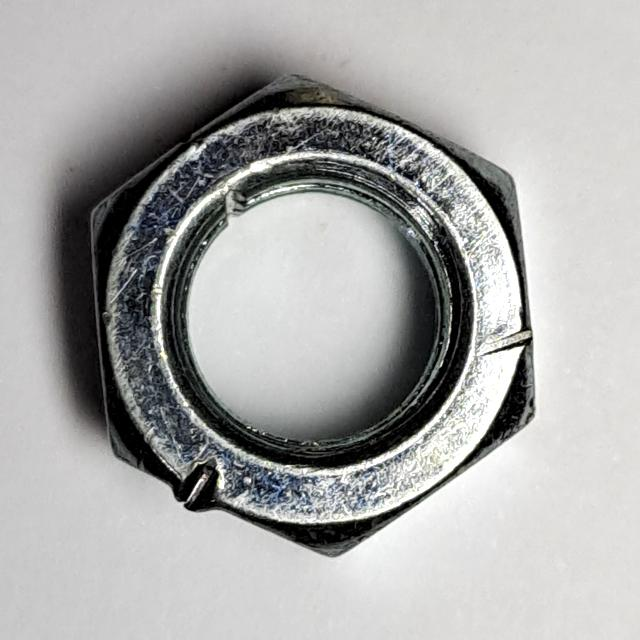Scratches: (79, 57, 547, 573)
